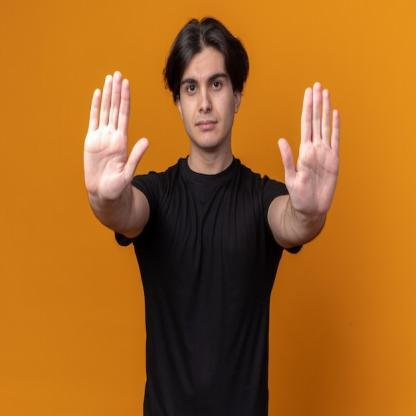stop: (274, 76, 350, 235), (82, 66, 152, 209)
